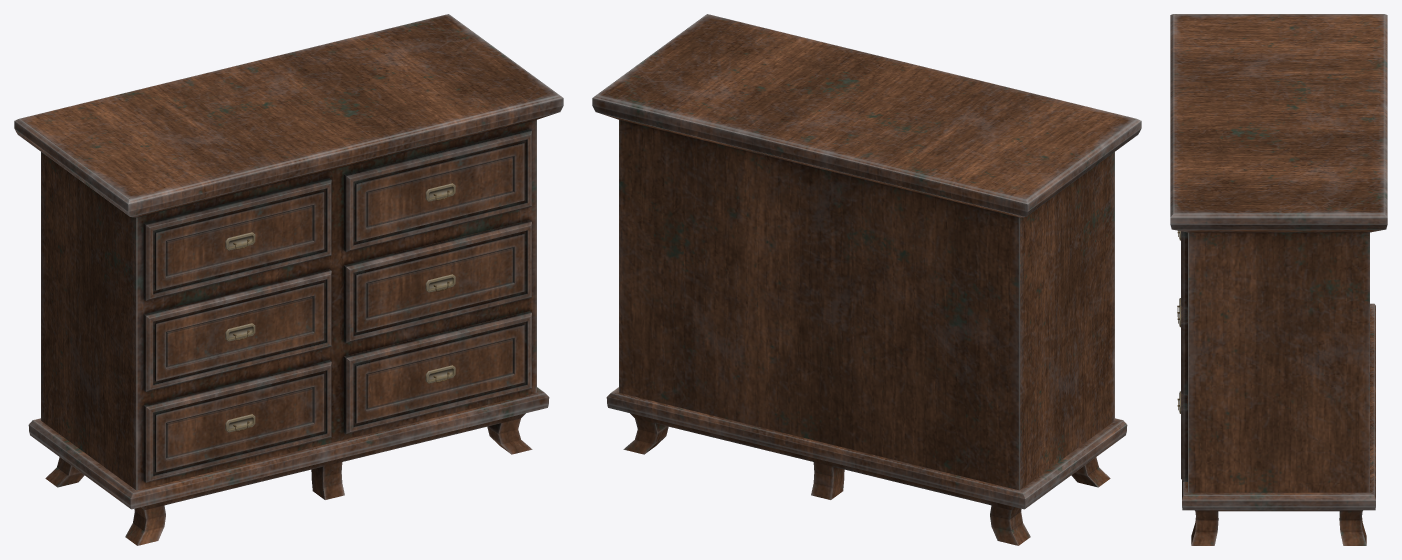
File: obj_commode_9a6e0f.glb
The picture shows the model from 3 angles, left to right: view 1: azimuth 30°, elevation 25°; view 2: azimuth 150°, elevation 25°; view 3: azimuth 270°, elevation 25°; orthographic projection. The views are drawn at different scales.
Parts seen in each view (by area): view 1: obj_commode_9a6e0f; view 2: obj_commode_9a6e0f; view 3: obj_commode_9a6e0f.
Part boxes in pixels (left/top/right/bottom): obj_commode_9a6e0f: left=14, top=14, right=563, bottom=545; obj_commode_9a6e0f: left=592, top=14, right=1141, bottom=545; obj_commode_9a6e0f: left=1170, top=14, right=1387, bottom=545.
Size of the model in its own units: 1.15 by 0.9 by 0.5207.
1 material, 1 textured.
